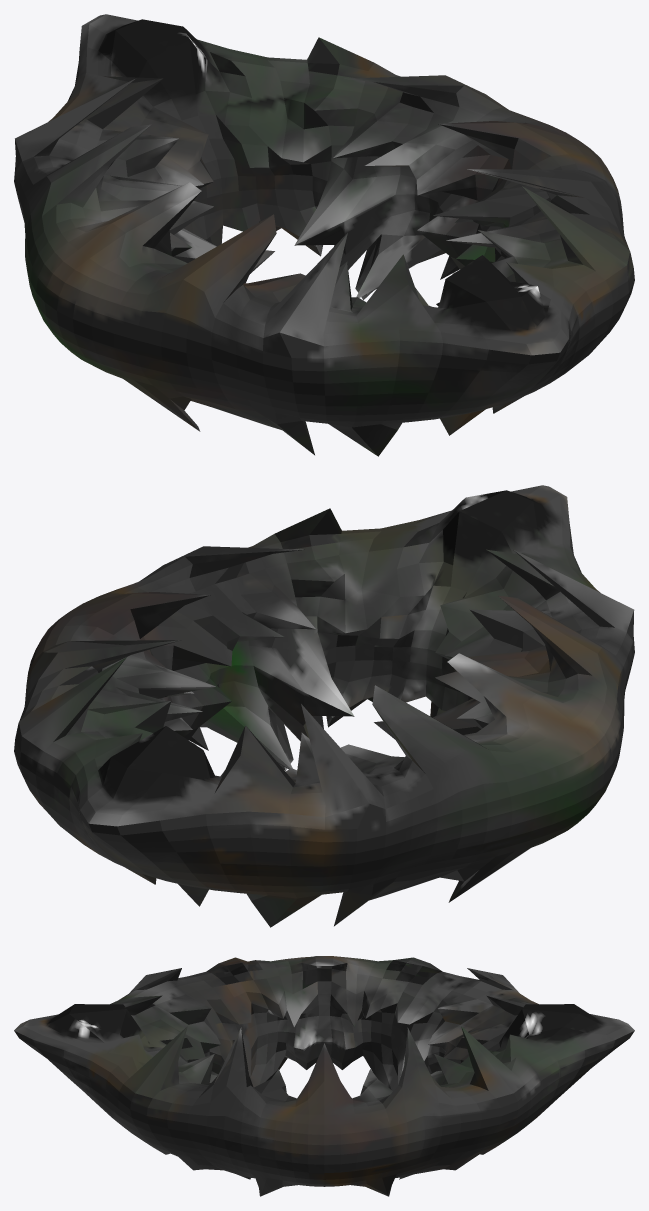
The model's file is MouthGate01.fbx.
3 views of the same model, one above another, from view 1: azimuth 30°, elevation 25°; view 2: azimuth 150°, elevation 25°; view 3: azimuth 270°, elevation 25° (orthographic). The views are drawn at different scales.
Visible parts, largest first — view 1: Torus; view 2: Torus; view 3: Torus.
Part boxes in pixels (bbox=[...]): Torus: bbox=[14, 14, 634, 456]; Torus: bbox=[14, 485, 634, 927]; Torus: bbox=[14, 956, 634, 1196].
Size of the model in its own units: 394 by 159 by 574.
